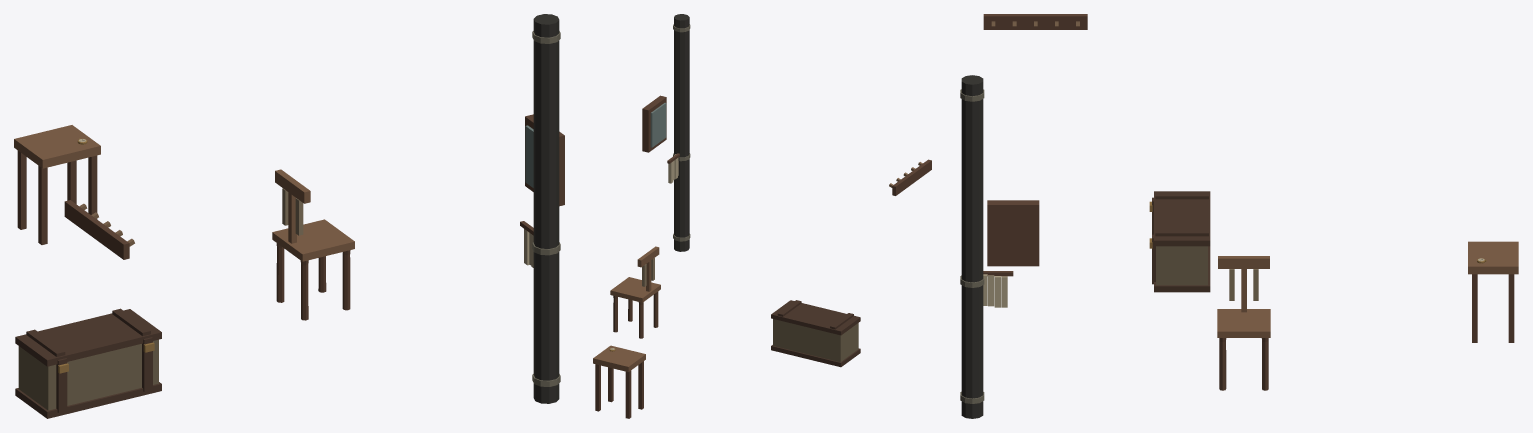
Rendered from hargrove_room04_details.glb.
3 views of the same model, side by side, from view 1: azimuth 30°, elevation 25°; view 2: azimuth 150°, elevation 25°; view 3: azimuth 270°, elevation 25° (orthographic). The views are drawn at different scales.
Parts seen in each view (by area): view 1: hargrove_room04_details; view 2: hargrove_room04_details; view 3: hargrove_room04_details.
Part boxes in pixels (x1,y1,x2,y2): hargrove_room04_details: [14, 14, 564, 418]; hargrove_room04_details: [593, 14, 931, 418]; hargrove_room04_details: [960, 14, 1518, 418].
Size of the model in its own units: 3.2 by 2.62 by 3.96.
